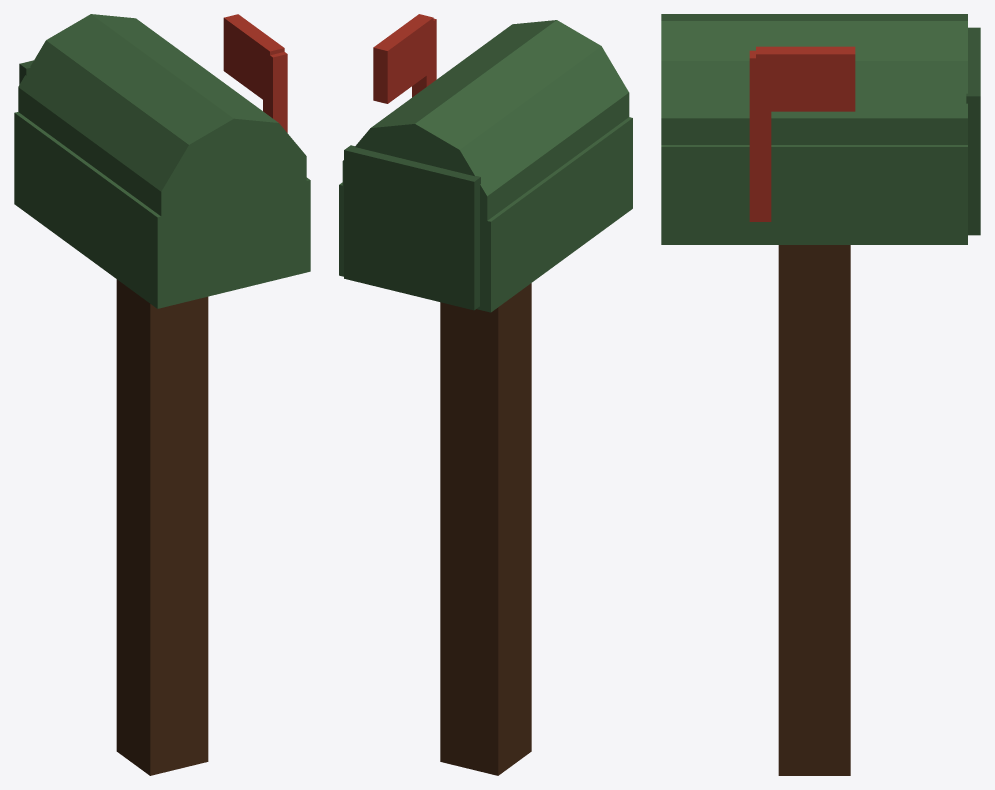
The model's file is Mailbox.glb.
The picture shows the model from 3 angles, left to right: view 1: azimuth 30°, elevation 25°; view 2: azimuth 150°, elevation 25°; view 3: azimuth 270°, elevation 25°; orthographic projection. The views are drawn at different scales.
Parts seen in each view (by area): view 1: Body; view 2: Body; view 3: Body.
Part boxes in pixels (box(x1,y1,x2,y2)): Body: box(14, 14, 310, 775); Body: box(339, 14, 632, 775); Body: box(661, 14, 980, 775).
Size of what is drawn, in the model's own units: 1.18 by 4.62 by 1.77.
